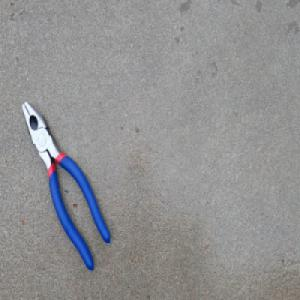Pliers: (22, 99, 111, 272)
